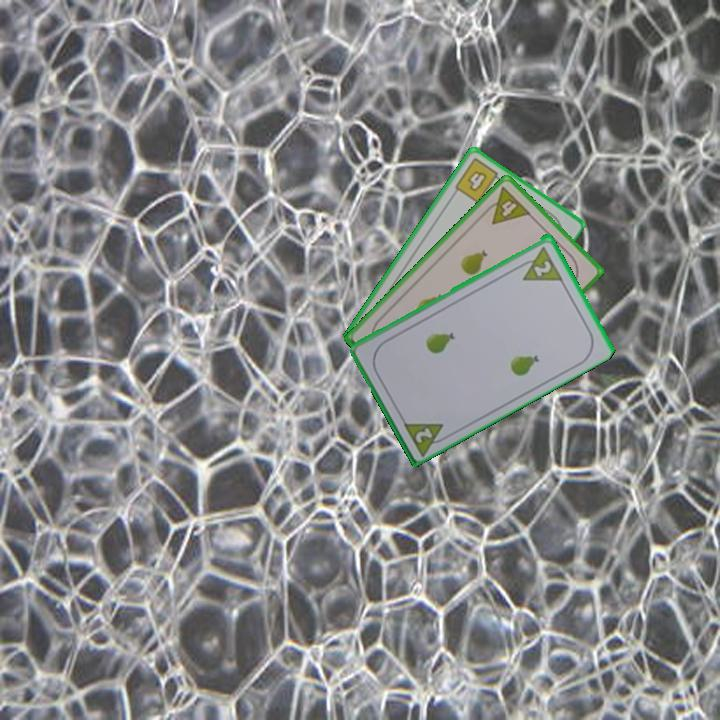2p: (513, 242, 565, 284), (399, 416, 452, 457)
4b: (451, 154, 506, 206)
4p: (479, 183, 533, 227)
